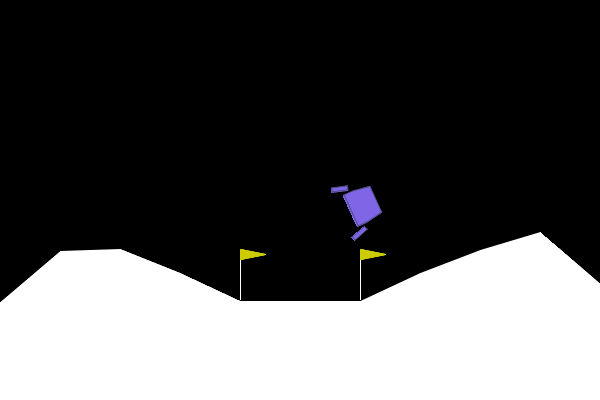lander: (328, 171, 390, 243)
